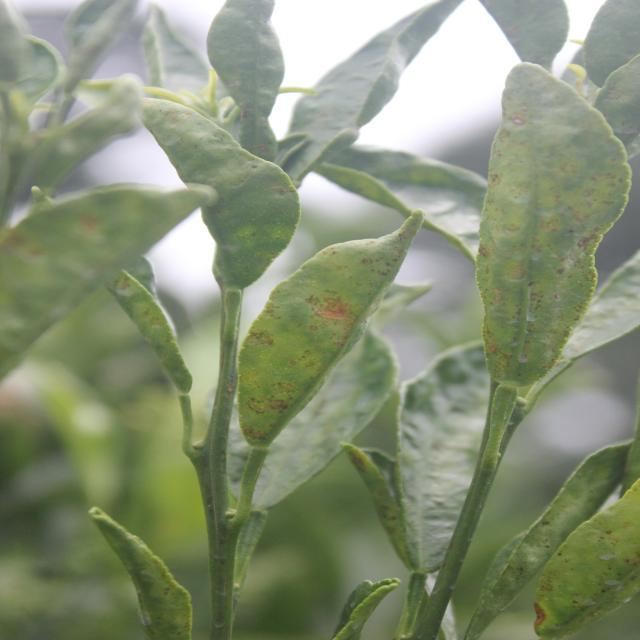canker: (228, 211, 423, 432), (462, 102, 604, 380), (0, 196, 124, 318), (548, 487, 640, 624), (354, 446, 431, 563), (117, 274, 185, 381)
